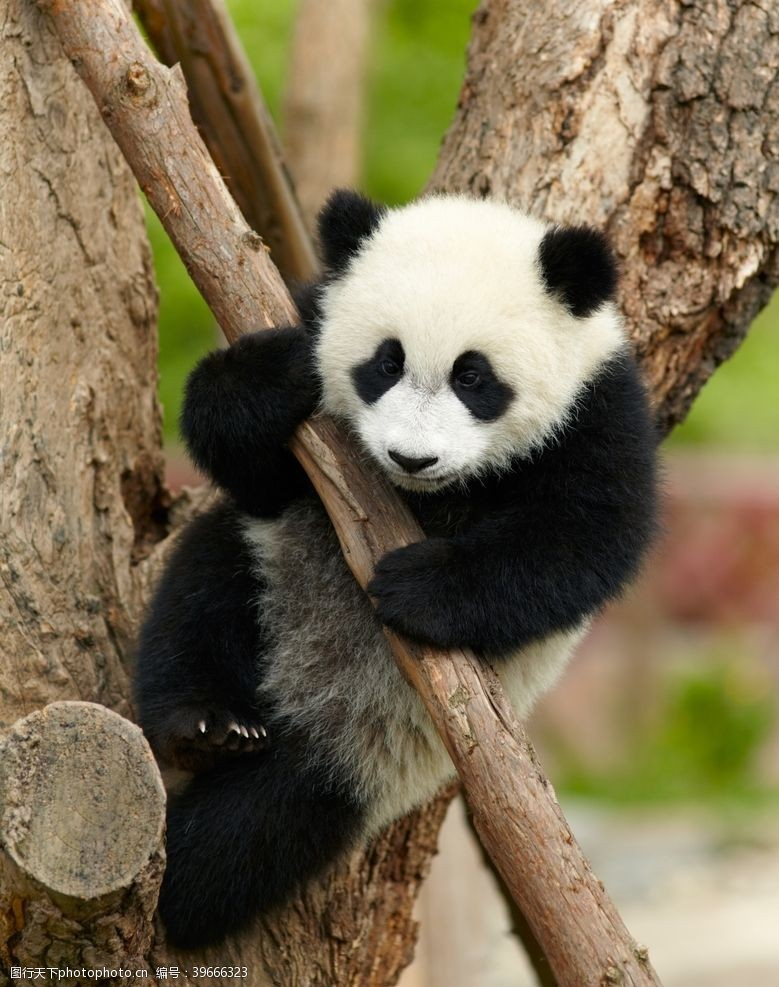panda: (127, 177, 667, 954)
